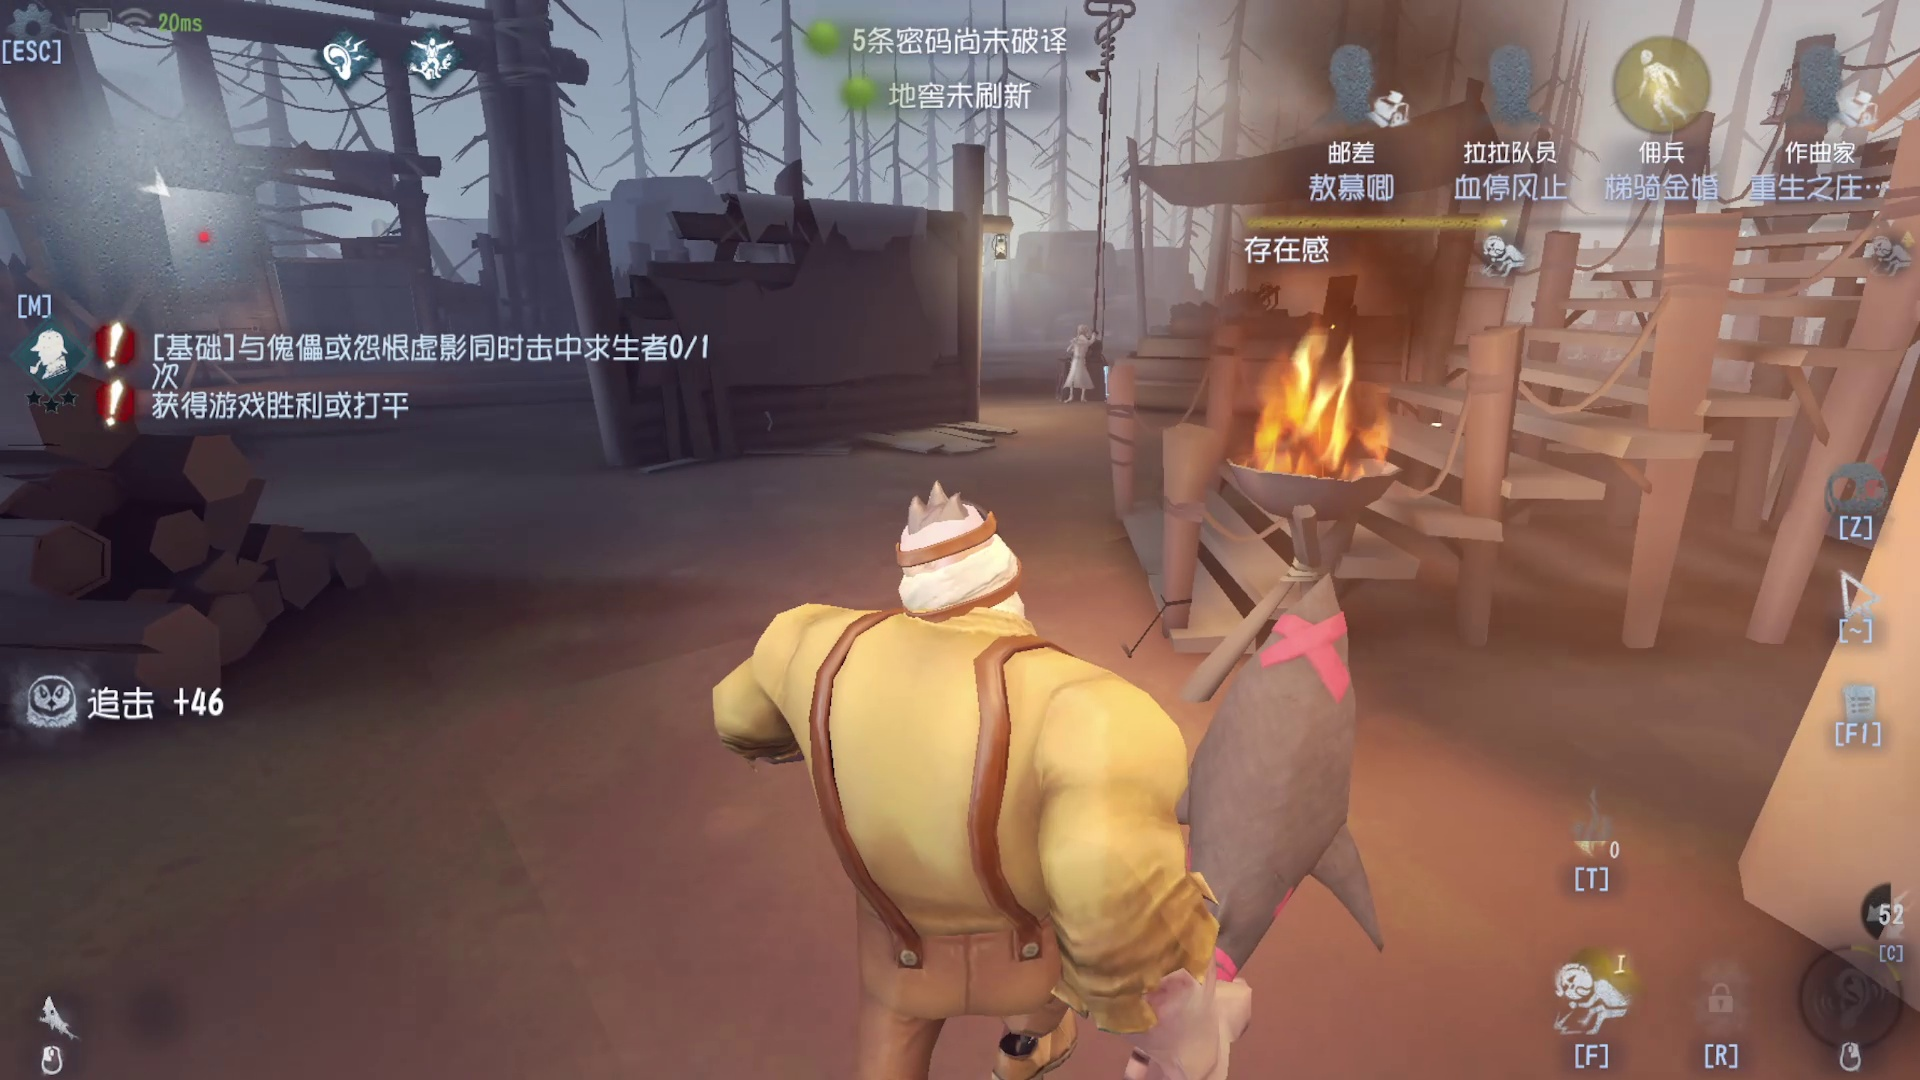密码机: (1000, 1, 1131, 415)
求生者: (1050, 324, 1098, 404)
